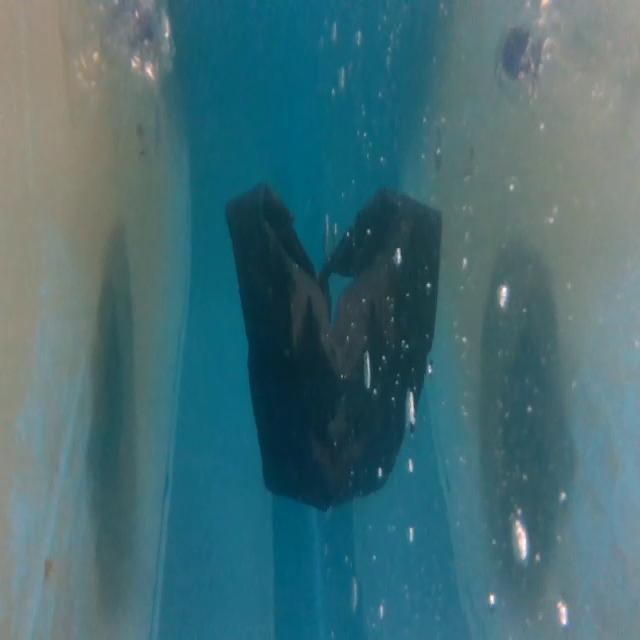plastic bags: (219, 177, 446, 519)
